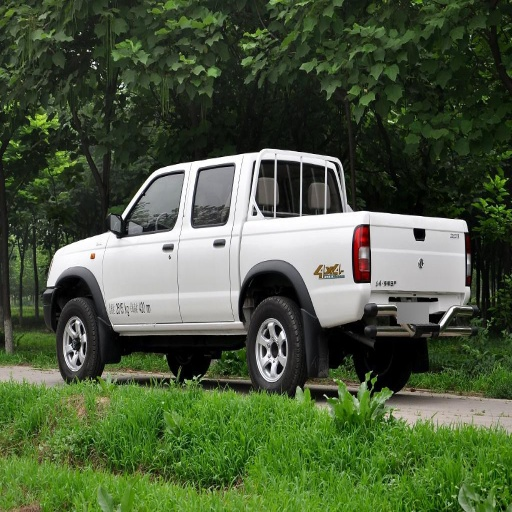back_left_door: (178, 167, 232, 318)
trunk: (199, 218, 436, 327)
